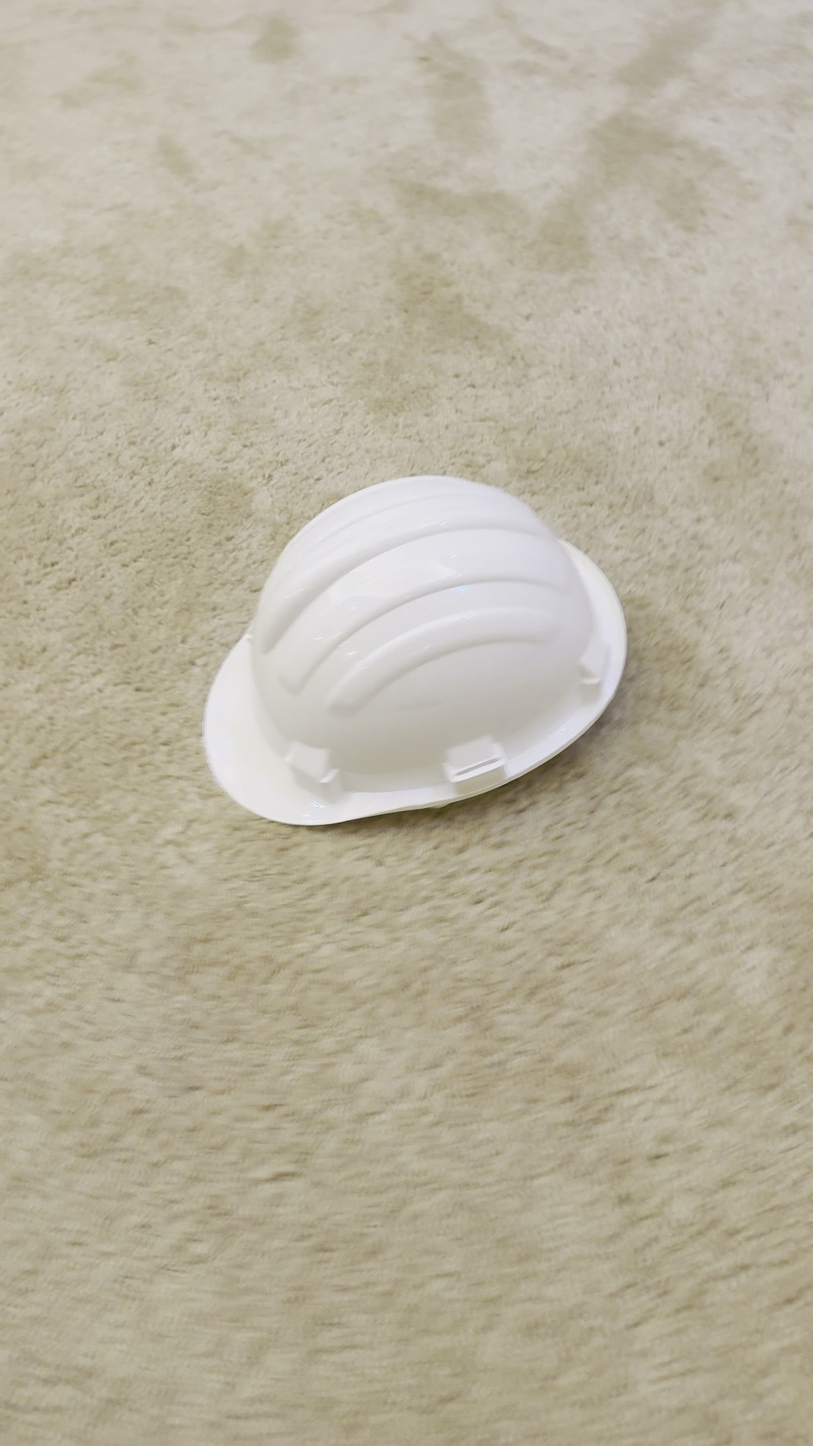safety_helmet: (201, 471, 629, 829)
